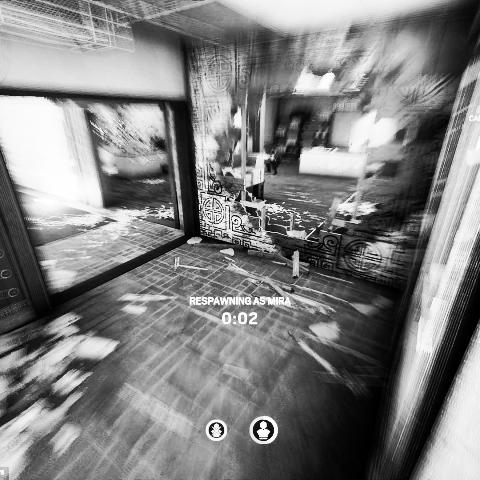Character: (263, 147, 283, 175)
Head: (270, 147, 277, 154)
